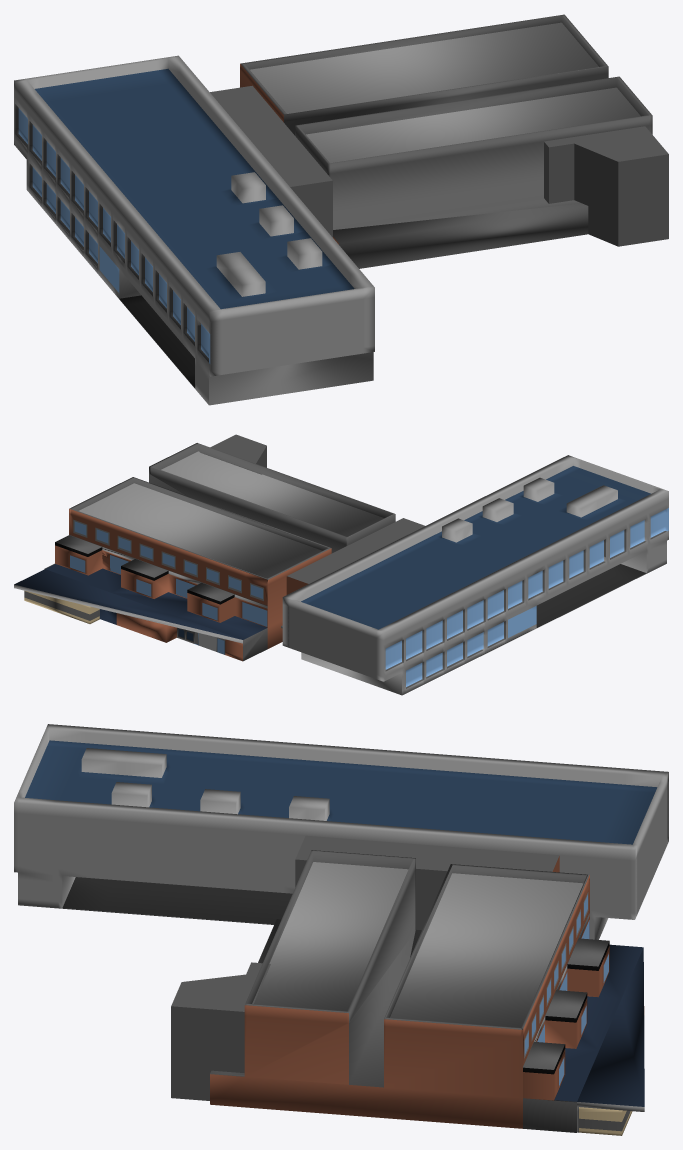
The model's file is service.glb.
3 views of the same model, one above another, from view 1: azimuth 30°, elevation 25°; view 2: azimuth 150°, elevation 25°; view 3: azimuth 270°, elevation 25° (orthographic). The views are drawn at different scales.
Parts seen in each view (by area): view 1: service; view 2: service; view 3: service.
Part boxes in pixels (box(x1,y1,x2,y2)): service: box(14, 14, 668, 405); service: box(14, 434, 668, 695); service: box(14, 724, 668, 1135).
Size of the model in its own units: 6.9 by 1.11 by 6.13.
